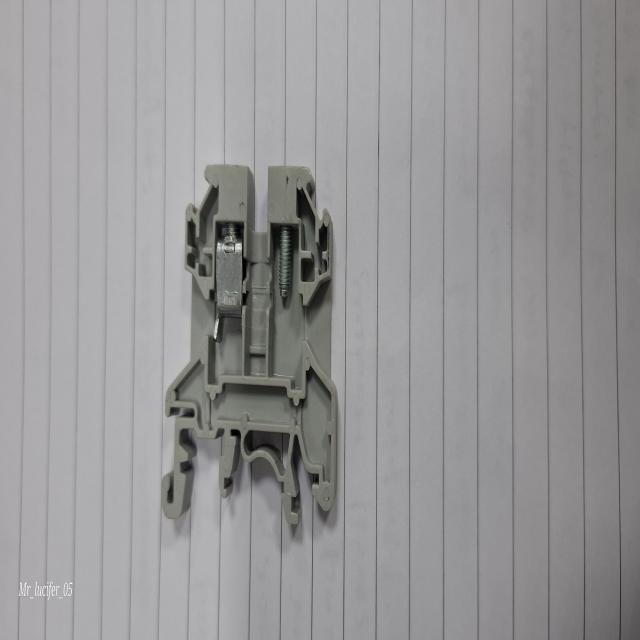Reject: (158, 155, 344, 540)
